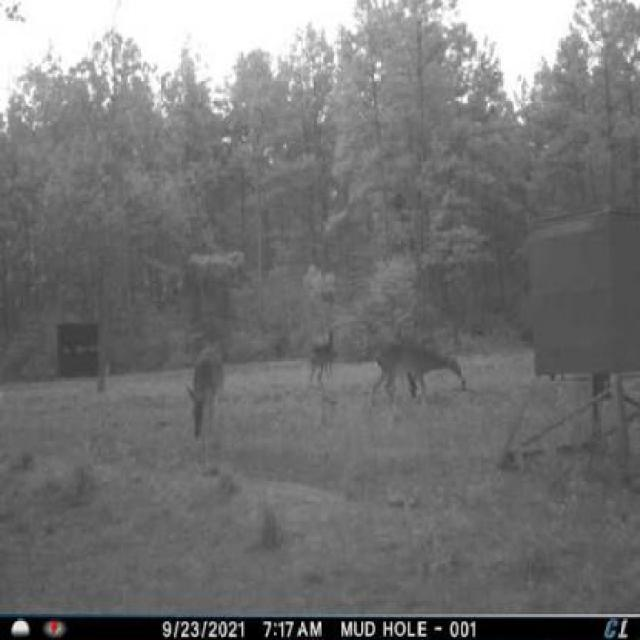Deer: (370, 337, 475, 418), (178, 333, 234, 461), (300, 320, 348, 406)
